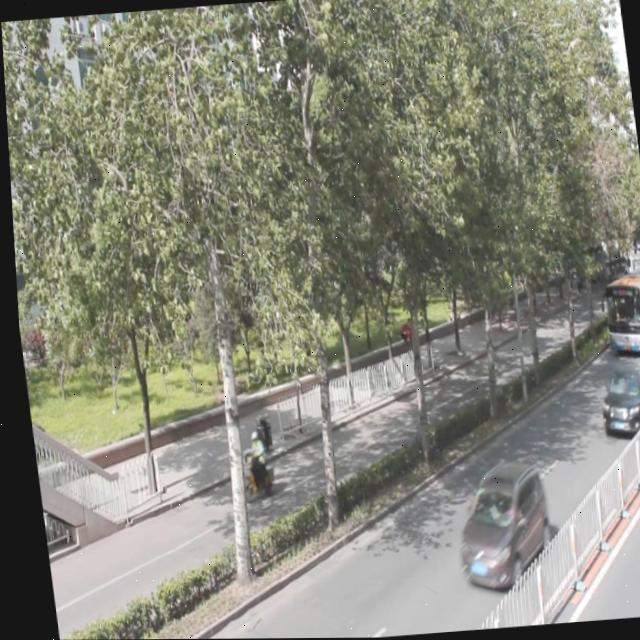car: (441, 455, 547, 590), (589, 361, 640, 437)
